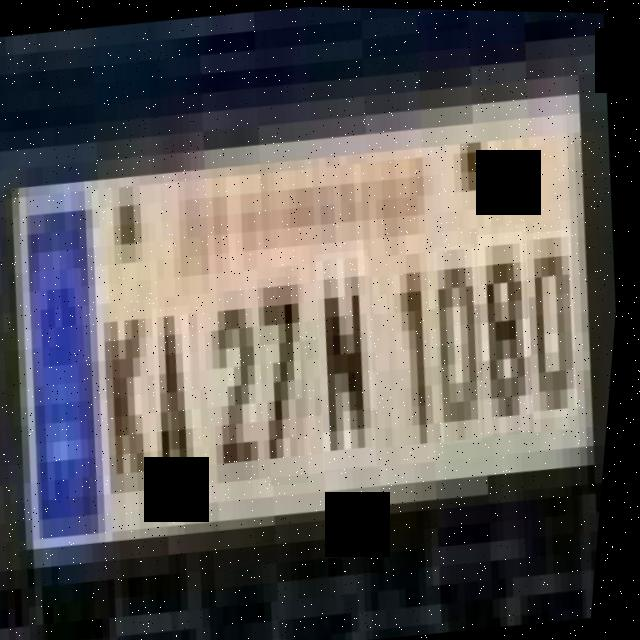0: (424, 240, 502, 443), (516, 225, 597, 419)
1: (379, 248, 459, 462)
7: (249, 272, 331, 485)
8: (467, 227, 549, 432)
A: (145, 303, 219, 502)
K: (85, 299, 176, 505)
N: (305, 246, 398, 471)
